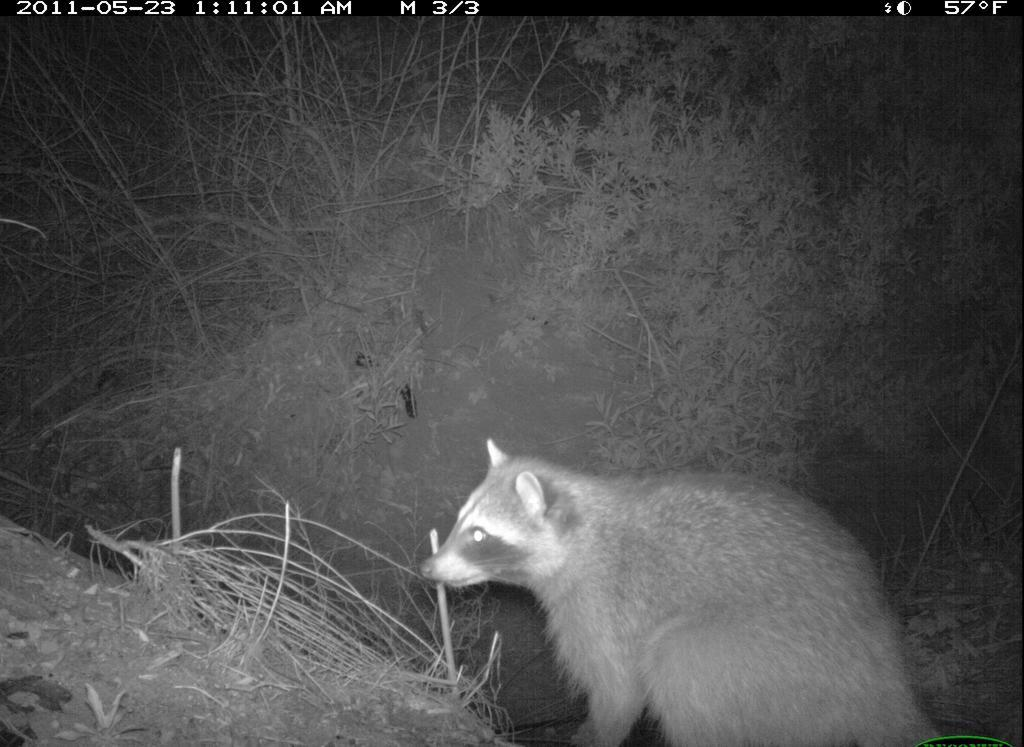raccoon: (402, 434, 943, 740)
